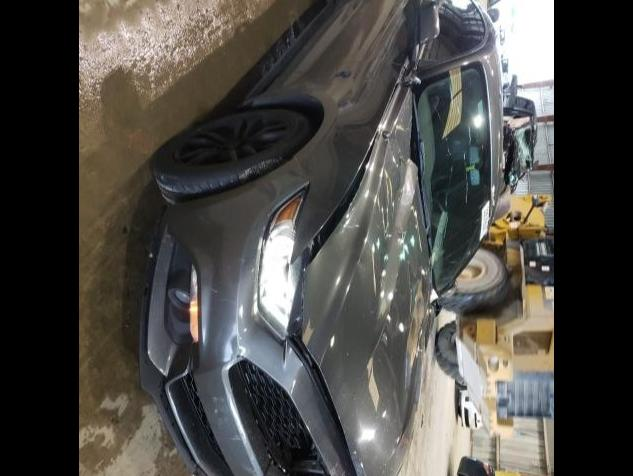Broken part: (138, 158, 363, 476), (298, 121, 384, 268), (240, 356, 332, 476)
Dent: (358, 88, 418, 320), (242, 148, 308, 200), (404, 278, 432, 400), (220, 322, 240, 368)
Scratch: (376, 121, 393, 146), (208, 284, 220, 294), (388, 146, 398, 158), (229, 434, 240, 440), (218, 298, 232, 300), (220, 396, 224, 400), (212, 396, 216, 400)
